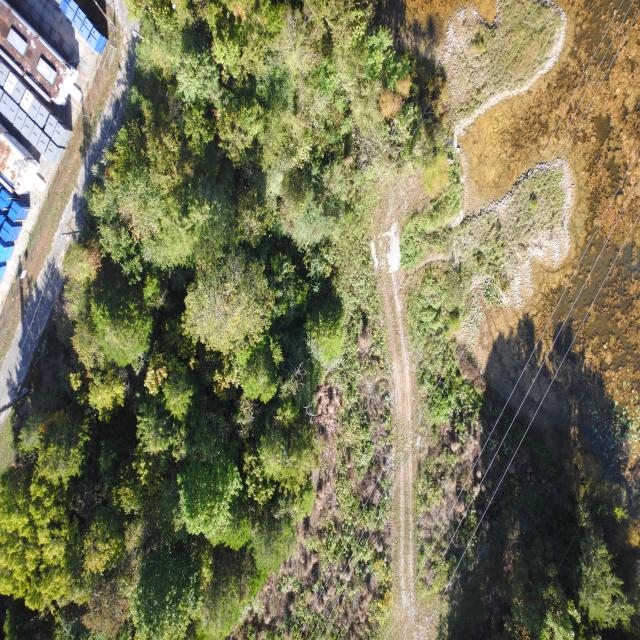Area of Interest: (12, 13, 383, 618), (532, 533, 630, 632)
